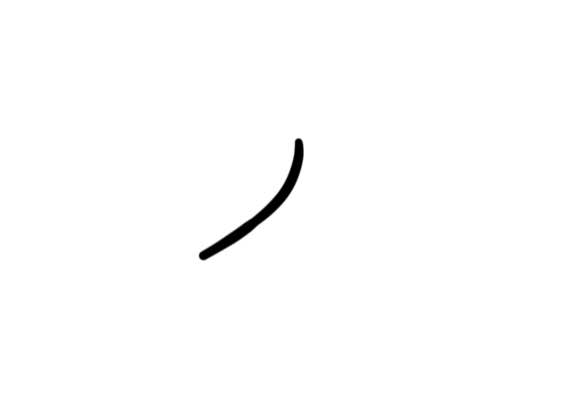no: (188, 133, 308, 273)
